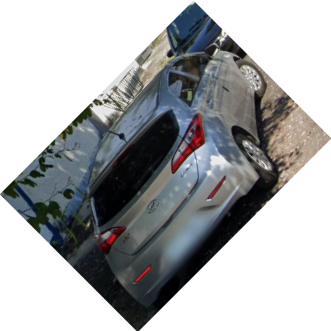car: (85, 47, 279, 309)
